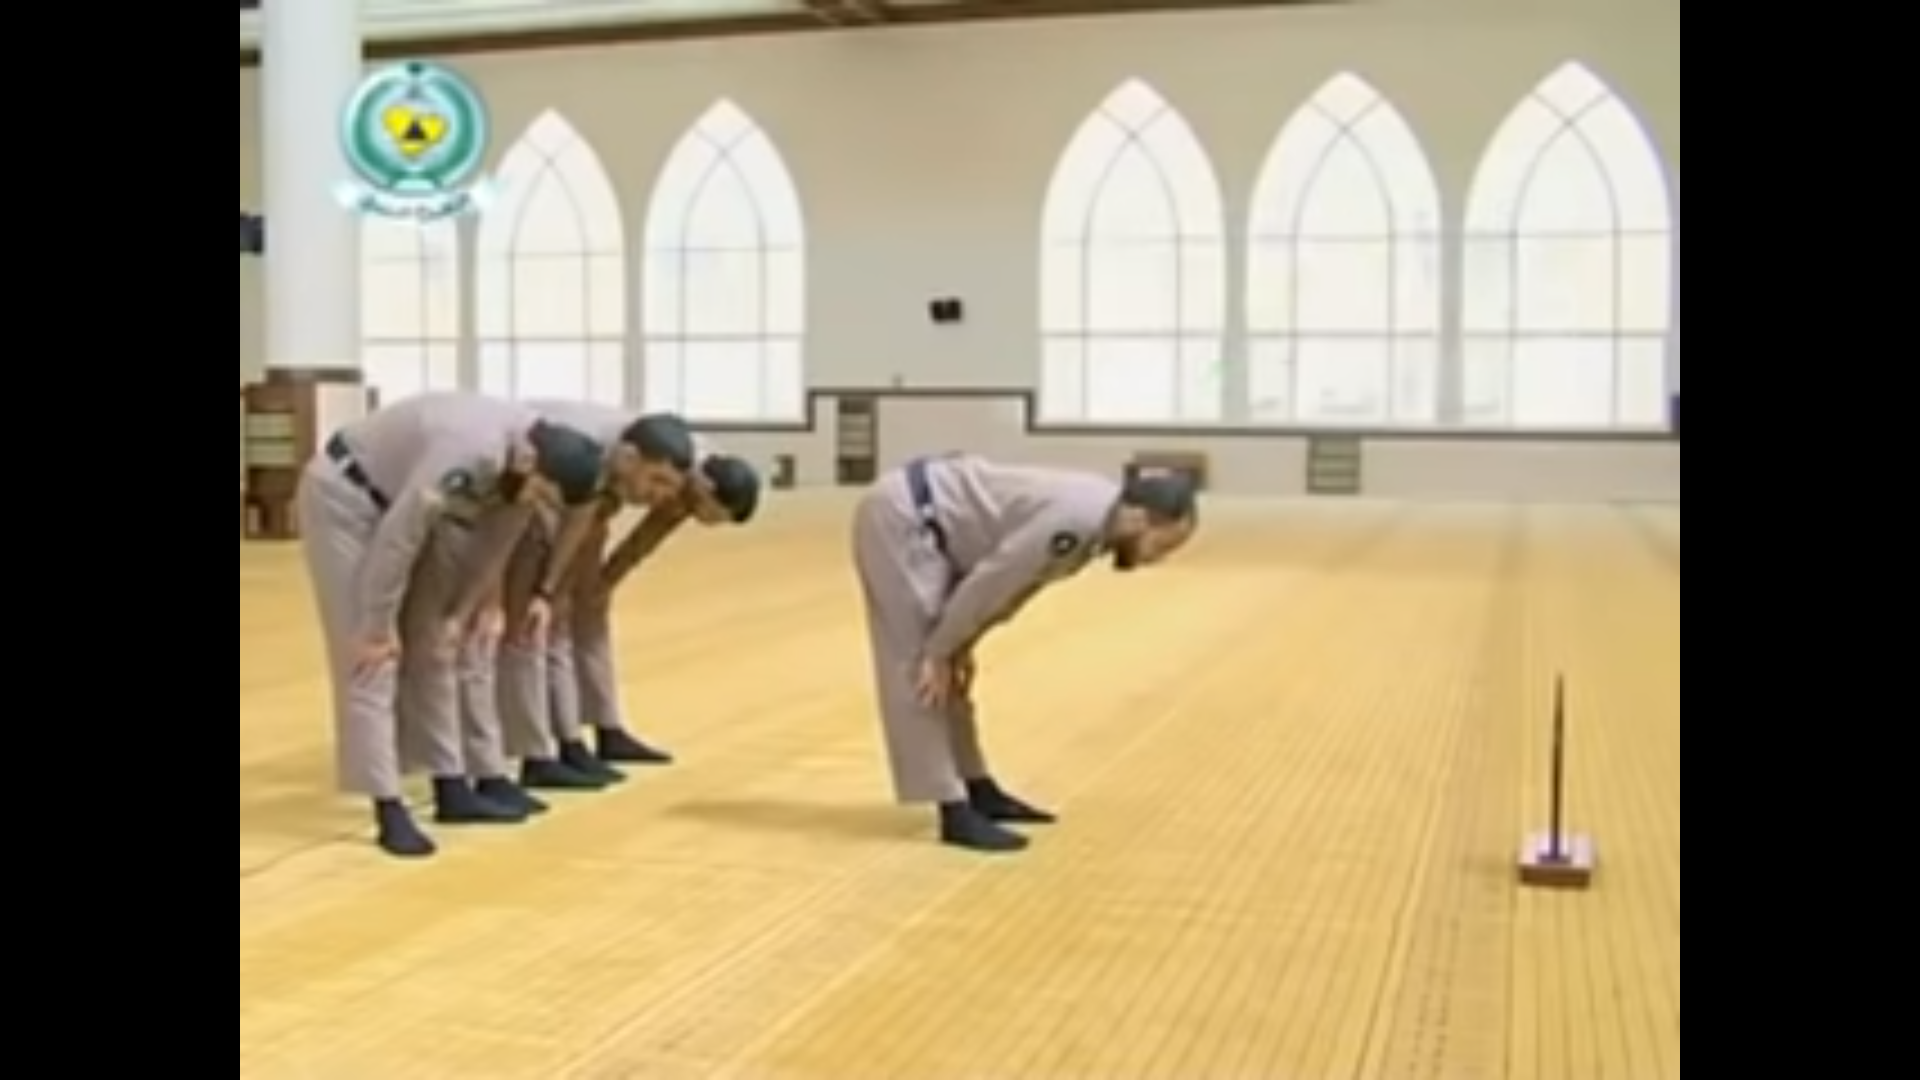ruku: (791, 404, 1290, 895), (286, 367, 632, 862)
